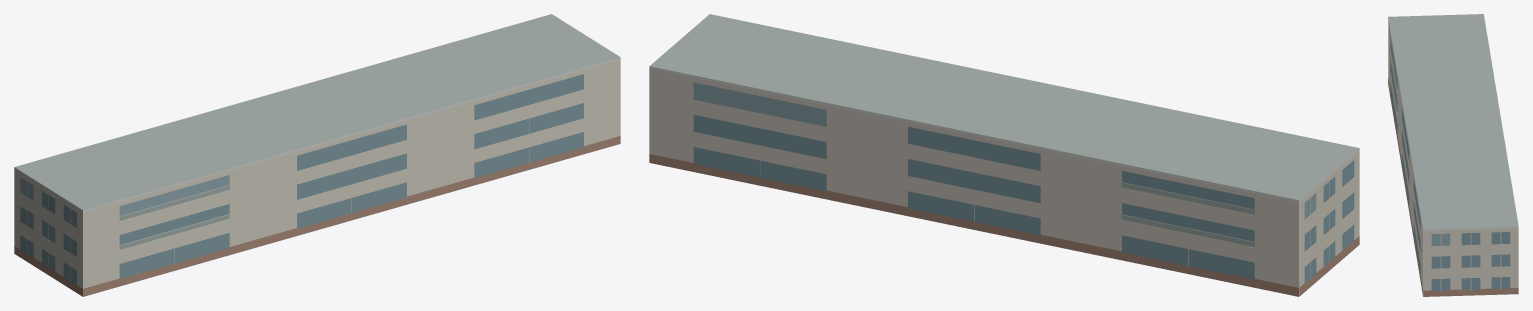
Rendered from survey-upis-32800528.glb.
The picture shows the model from 3 angles, left to right: view 1: azimuth 30°, elevation 25°; view 2: azimuth 150°, elevation 25°; view 3: azimuth 270°, elevation 25°; orthographic projection. The views are drawn at different scales.
Visible parts, largest first — view 1: survey-upis-32800528.tmp; view 2: survey-upis-32800528.tmp; view 3: survey-upis-32800528.tmp.
Part boxes in pixels (bbox=[...]): survey-upis-32800528.tmp: bbox=[14, 14, 620, 296]; survey-upis-32800528.tmp: bbox=[649, 14, 1359, 296]; survey-upis-32800528.tmp: bbox=[1388, 14, 1518, 296].
Size of the model in its own units: 62.68 by 9.15 by 16.06.
